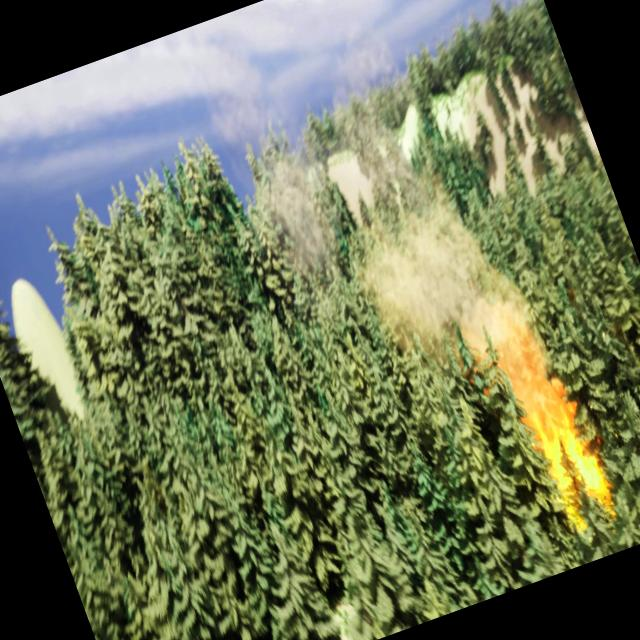fire: (487, 315, 623, 531)
smoke: (248, 70, 562, 453)
